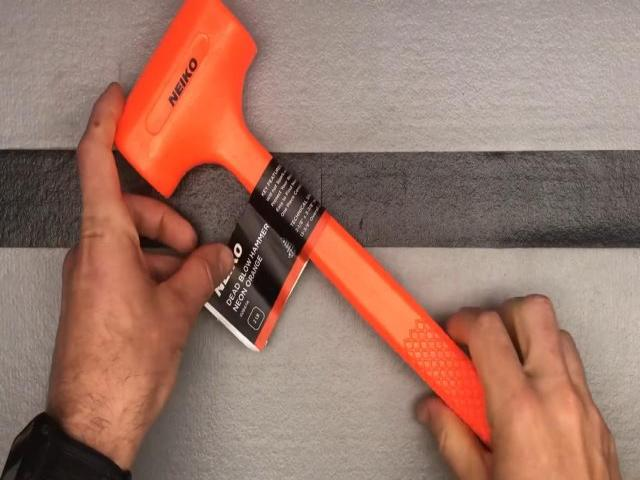hammer: (113, 1, 577, 478)
